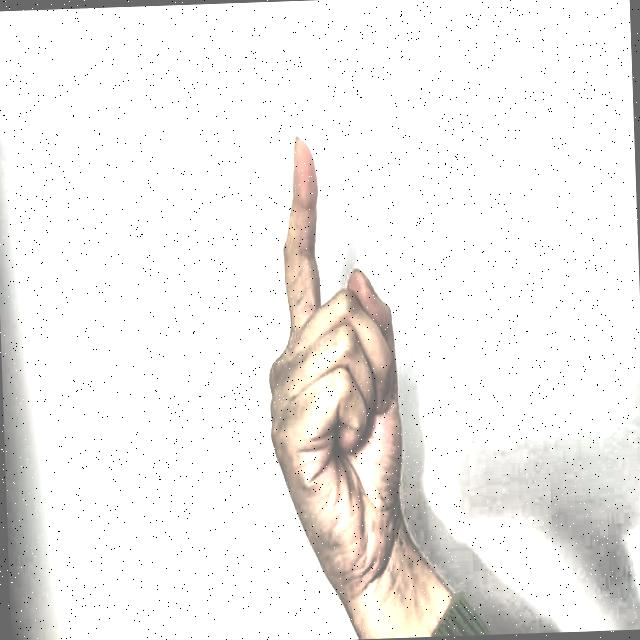U: (233, 115, 430, 595)
